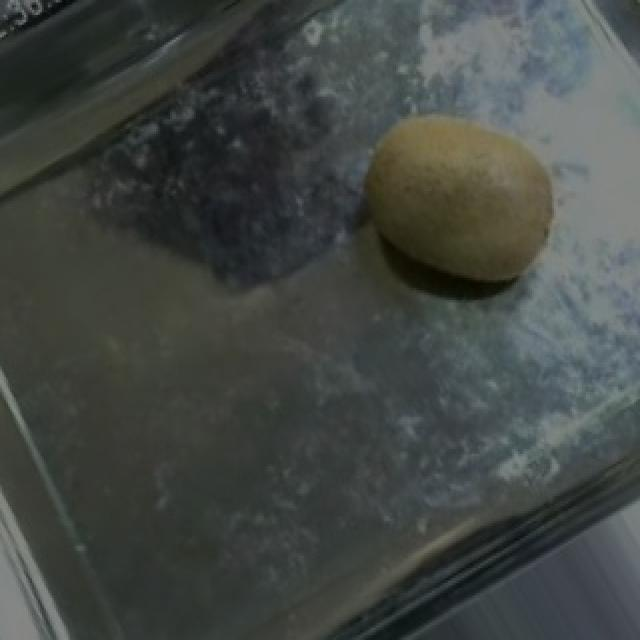Fruit: (332, 82, 590, 317)
